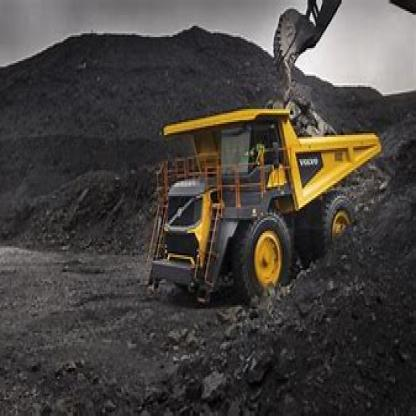dump_truck: (152, 98, 384, 318)
